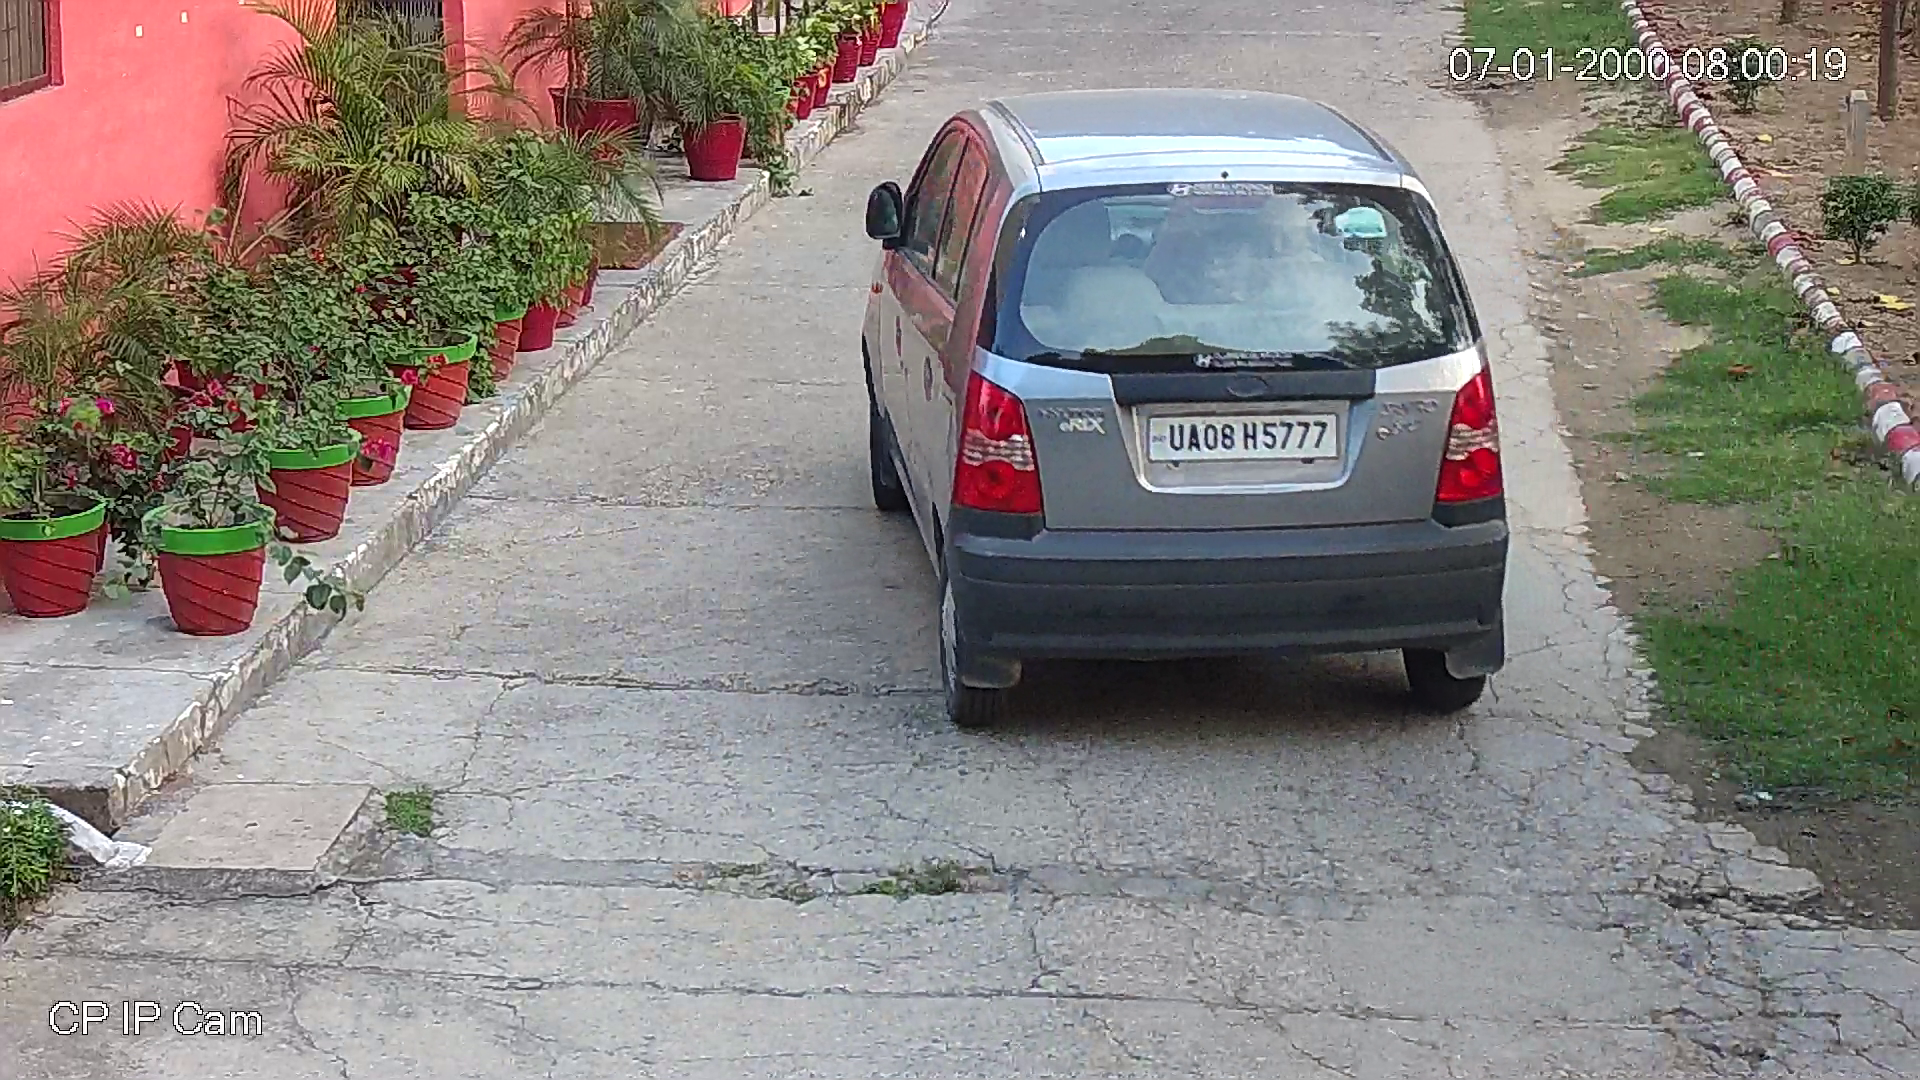plate: (1139, 408, 1343, 466)
